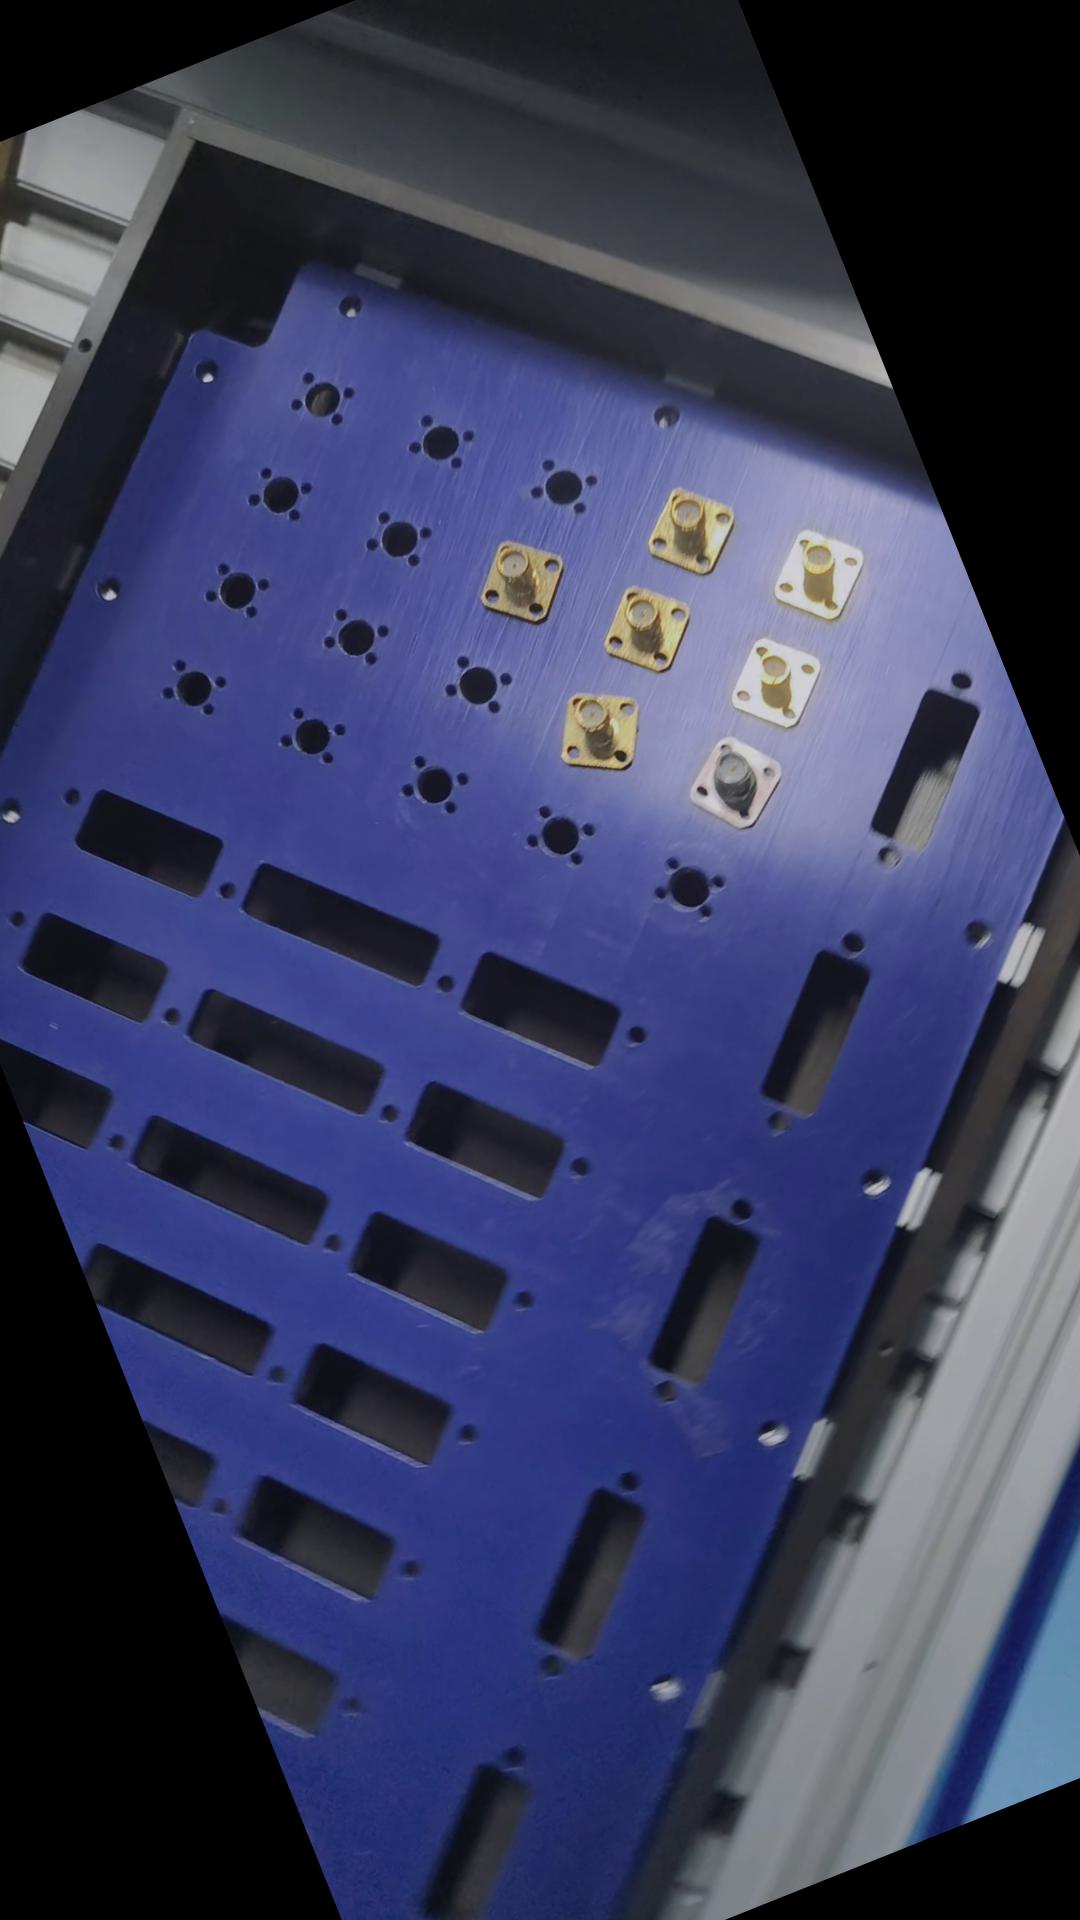SMA: (753, 510, 881, 636), (582, 568, 702, 692), (669, 717, 793, 837), (709, 622, 833, 741), (632, 471, 749, 589), (537, 673, 655, 789), (462, 522, 578, 636)
